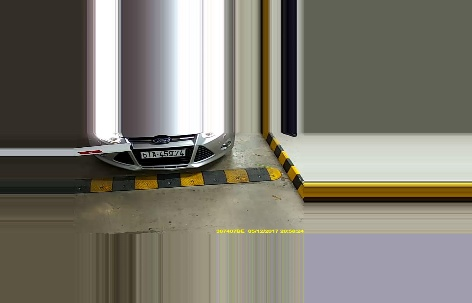plate: (139, 149, 186, 159)
